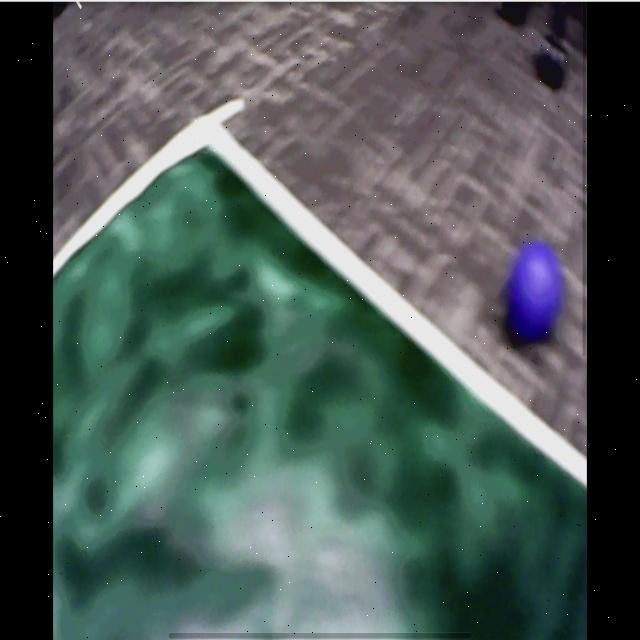ball: (509, 246, 567, 341)
